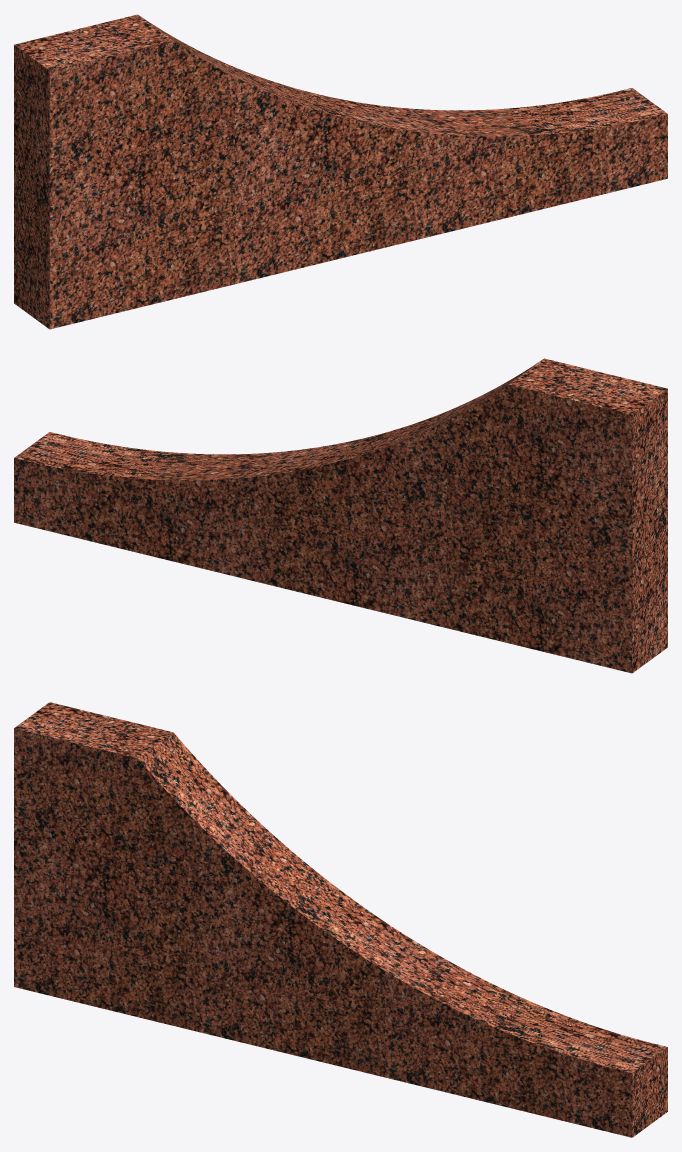
Rendered from fence_corner_004.glb.
The picture shows the model from 3 angles, top to bottom: view 1: azimuth 30°, elevation 25°; view 2: azimuth 150°, elevation 25°; view 3: azimuth 330°, elevation 25°; orthographic projection.
Parts seen in each view (by area): view 1: 3DGeom-1; view 2: 3DGeom-1; view 3: 3DGeom-1.
Part boxes in pixels (x1,y1,x2,y2): 3DGeom-1: (14, 14, 667, 329); 3DGeom-1: (14, 358, 667, 673); 3DGeom-1: (14, 702, 667, 1137).
Bounding box in the file's own units: 0.5002 × 0.2 × 0.05.
1 material, 1 textured.
